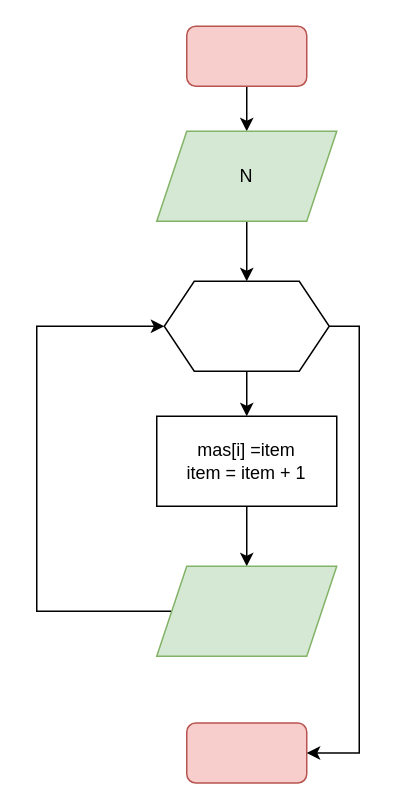
Some shapes in this 398 by 810 pixel diagram are drawn without their labels. The shapes that lost their labels are listed below. From the top down, each one's box as (x1, y1, x2, y2) in pixels, then its label:
(163, 280, 329, 371): i < N ; i = i +1
(155, 565, 337, 656): mas[i]
